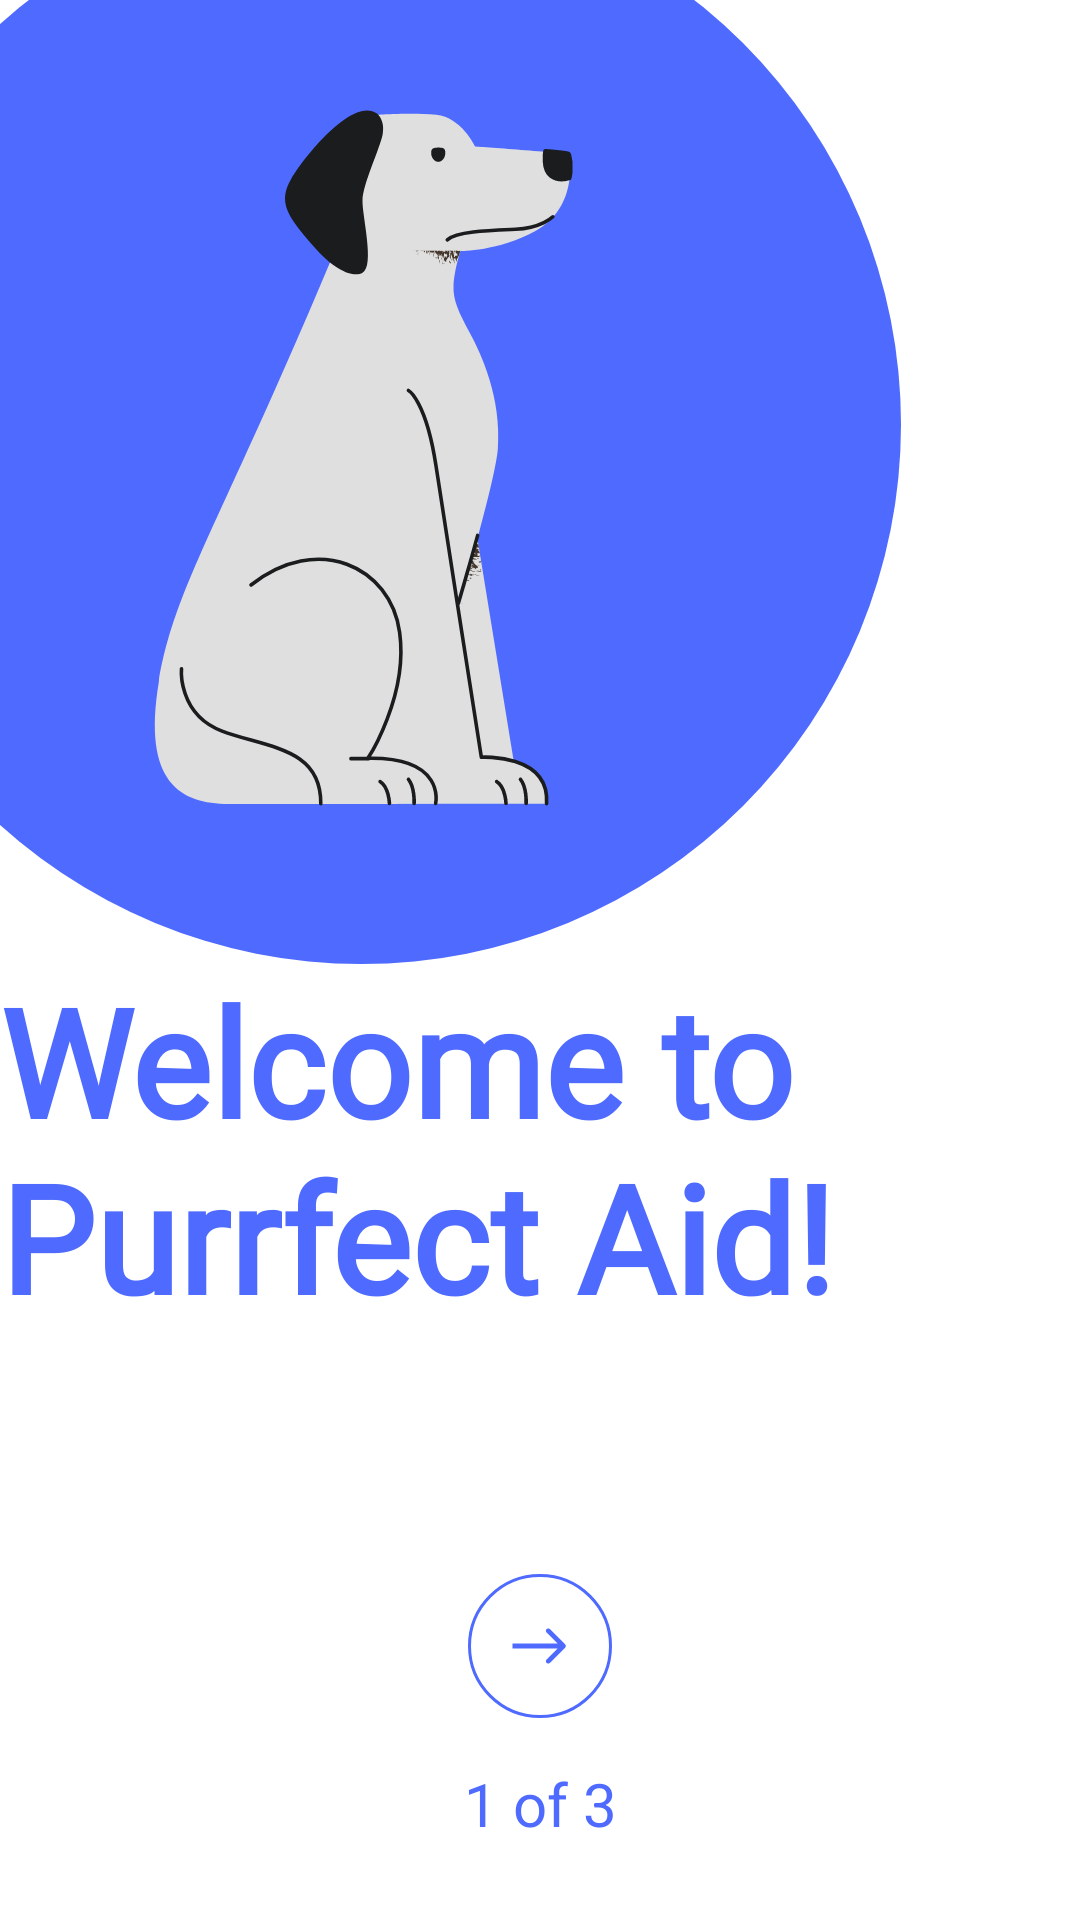

Where icons sit on this 1080*1920 app screen, as (x1, y1, x2, y2):
Next: (468, 1574, 612, 1718)
